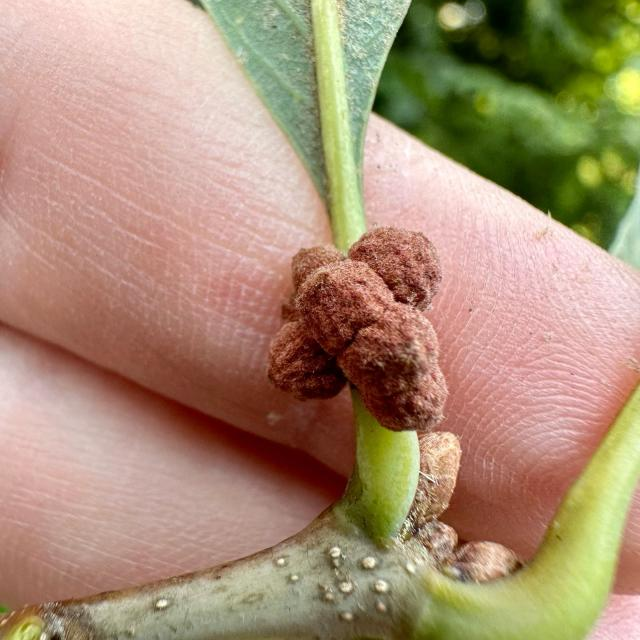Tuberculosis: (268, 227, 448, 433)
